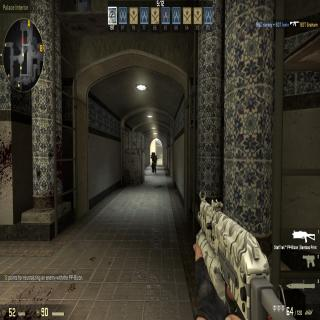CT-Body: (152, 152, 157, 174), (150, 152, 154, 172)
CT-Head: (153, 151, 155, 156), (151, 152, 153, 156)
